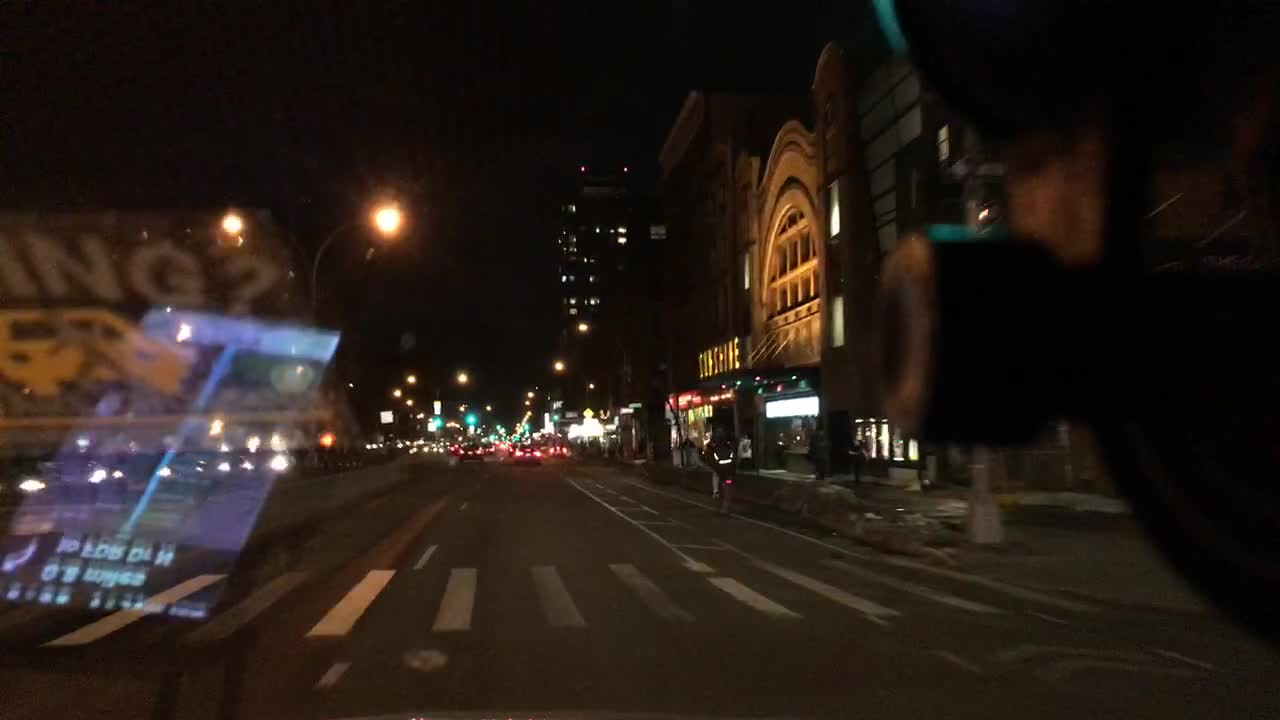bike: (704, 462, 739, 521)
car: (8, 451, 127, 497), (150, 449, 234, 487), (238, 451, 304, 484), (512, 440, 545, 466), (456, 441, 485, 462), (546, 441, 573, 456), (484, 440, 495, 456)
rider: (701, 421, 741, 501)
traffic light: (465, 409, 475, 424), (432, 416, 441, 426)
traffic sign: (380, 408, 391, 426)
